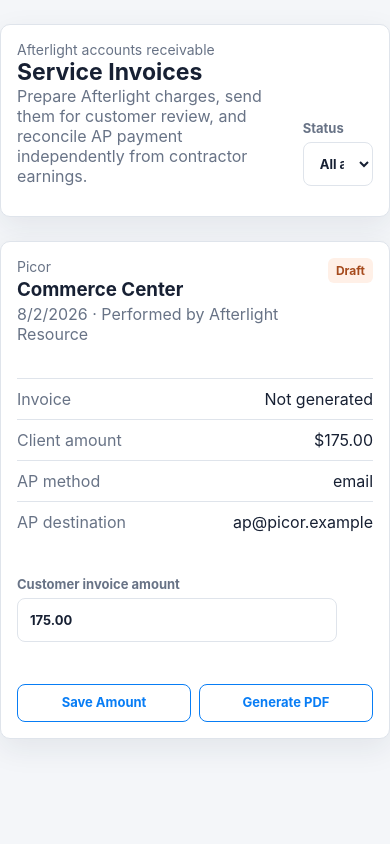
Test: platform admin can save an independent customer invoice amount
Replace the text in the number field labelled "Customer invoice amount" with "225.00" at (177, 620), box left=17, top=598, right=337, bottom=642
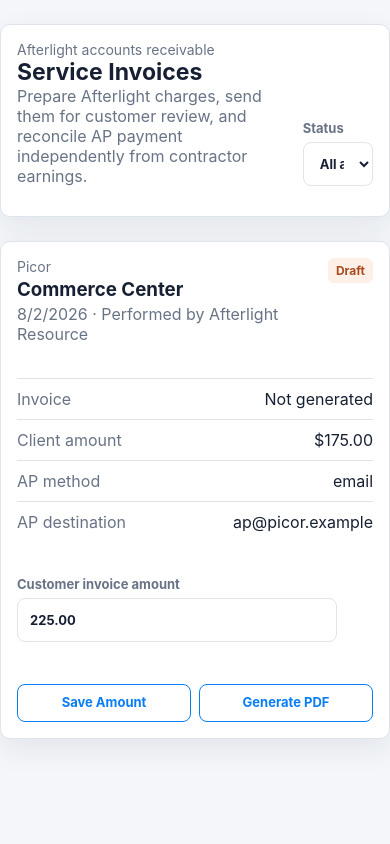
Click the button "Save Amount" at (104, 703), box left=17, top=684, right=191, bottom=722
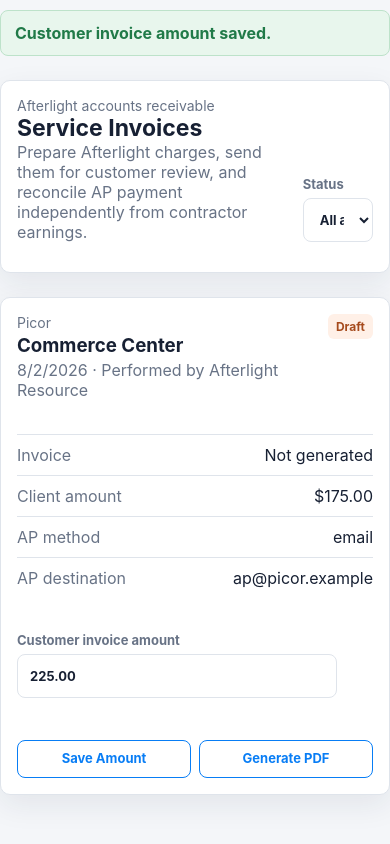
Result: the text "Customer invoice amount saved." is shown at left=0, top=10, right=389, bottom=56
